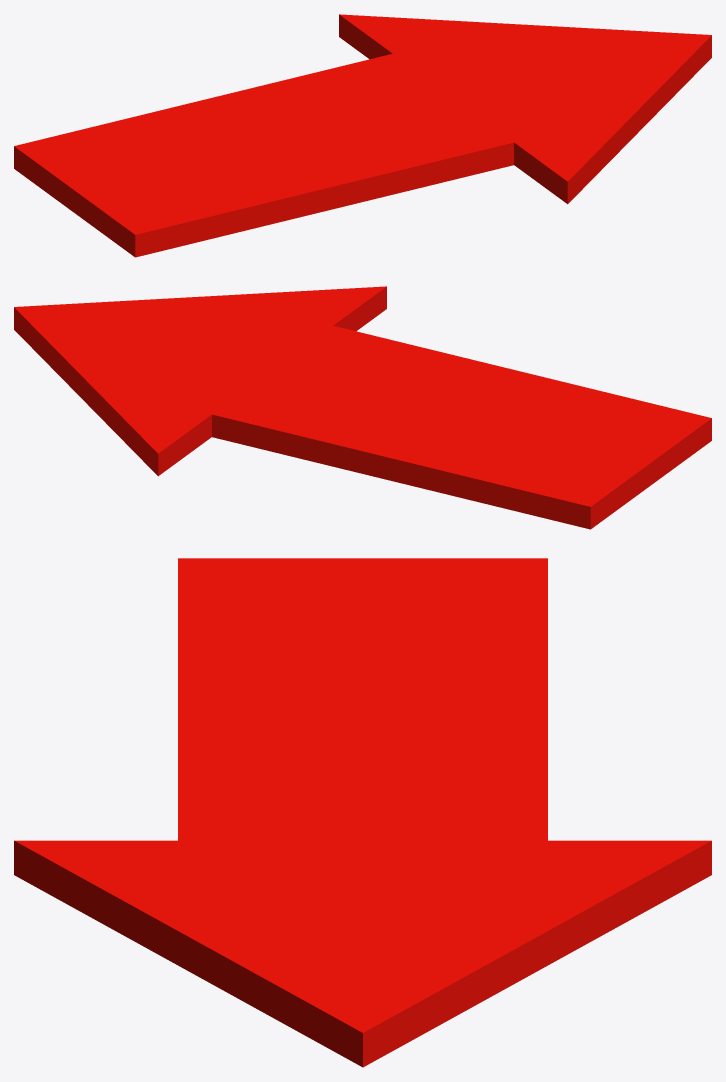
The model's file is Seta.fbx.
3 renders of one model, top to bottom at view 1: azimuth 30°, elevation 25°; view 2: azimuth 150°, elevation 25°; view 3: azimuth 270°, elevation 25°, orthographic. The views are drawn at different scales.
Parts seen in each view (by area): view 1: Plane; view 2: Plane; view 3: Plane.
Part boxes in pixels (box(x1,y1,x2,y2)): Plane: box(14, 14, 711, 257); Plane: box(14, 286, 711, 529); Plane: box(14, 558, 711, 1067).
Size of the model in its own units: 3.36 by 0.1142 by 2.09.
